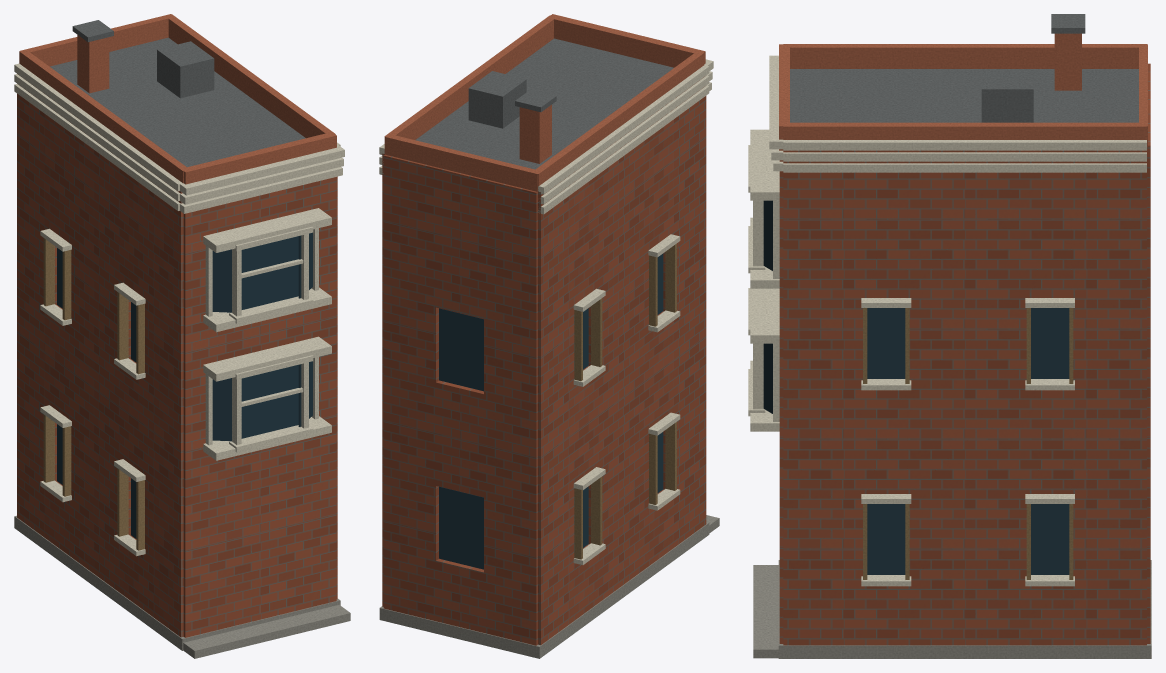
The model's file is VICT17_lod2.glb.
The picture shows the model from 3 angles, left to right: view 1: azimuth 30°, elevation 25°; view 2: azimuth 150°, elevation 25°; view 3: azimuth 270°, elevation 25°; orthographic projection. The views are drawn at different scales.
Visible parts, largest first — view 1: VICT17_LOD2; view 2: VICT17_LOD2; view 3: VICT17_LOD2.
Boxes of the visible parts, x1,y1,x2,y2 form: VICT17_LOD2: (14,14,350,658); VICT17_LOD2: (379,14,719,658); VICT17_LOD2: (748,14,1151,658).
Bounding box in the file's own units: 3.71 × 10.45 × 6.65.
Materials: 8 (6 with a texture image).
